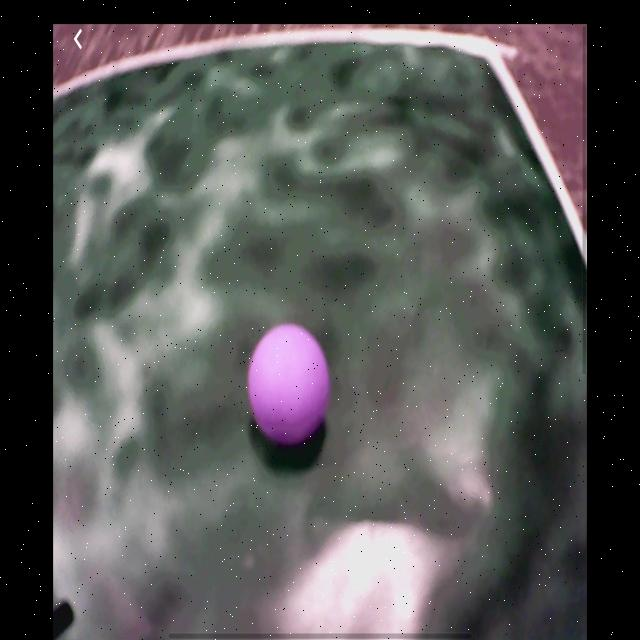ball: (247, 323, 332, 448)
